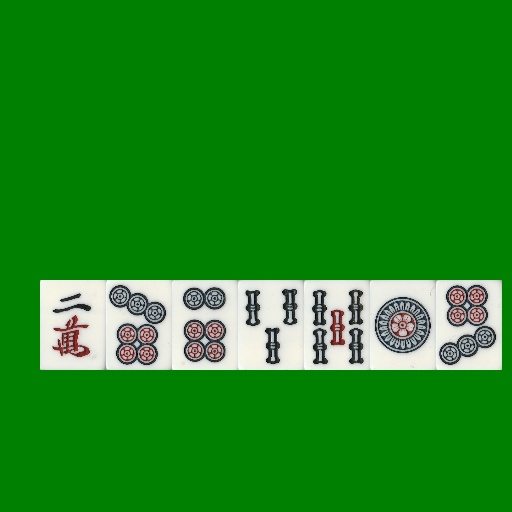1p: (370, 280, 436, 370)
2m: (40, 280, 106, 370)
3s: (238, 280, 304, 370)
5s: (304, 280, 370, 370)
6p: (172, 280, 238, 370)
7p: (106, 280, 172, 370), (436, 280, 502, 370)
